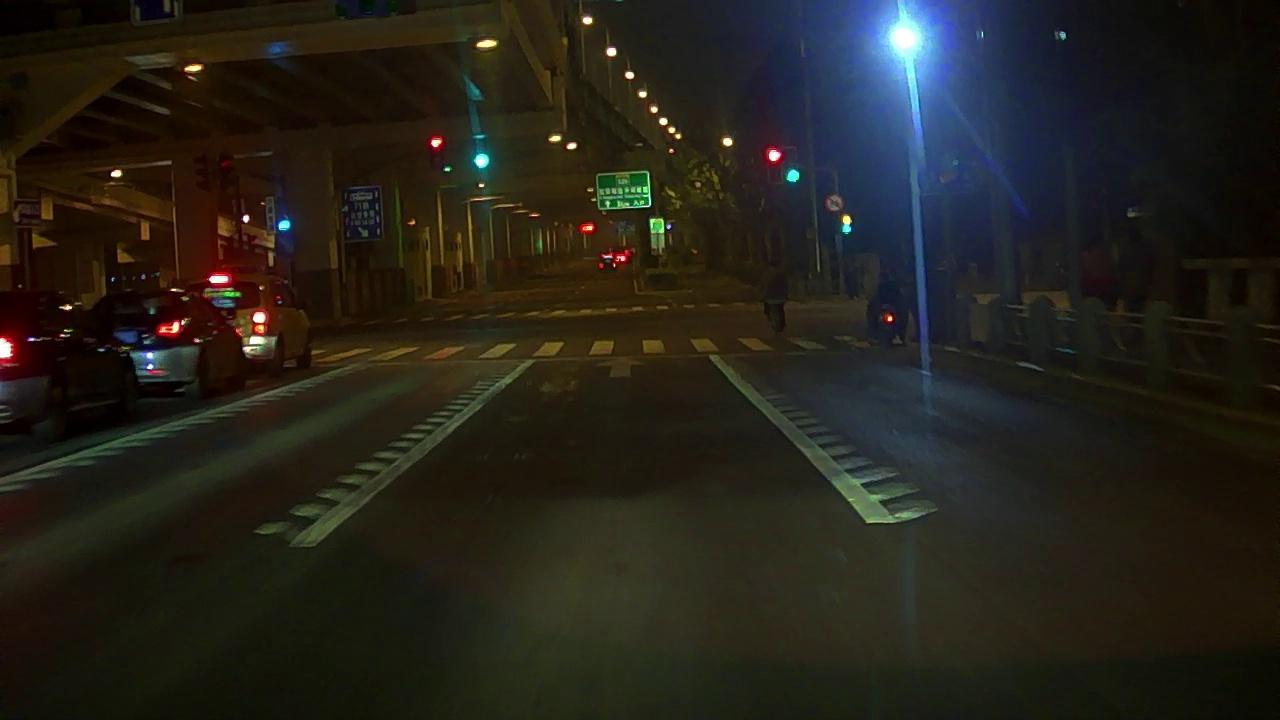traffic_light: (785, 148, 799, 184), (475, 139, 488, 173), (768, 150, 781, 180), (431, 137, 443, 168)
